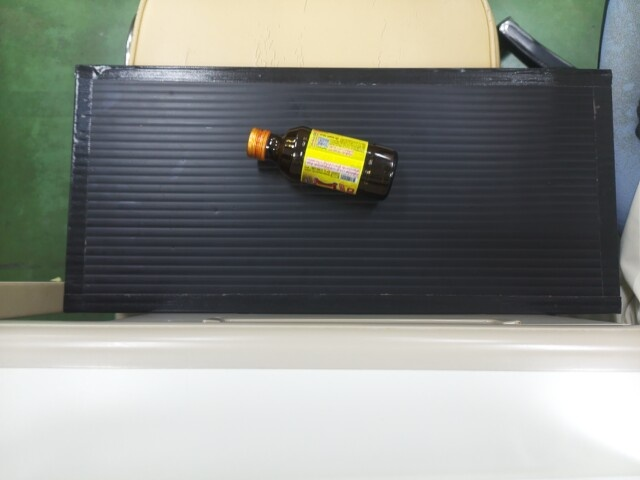glass_bottle: (243, 120, 396, 203)
